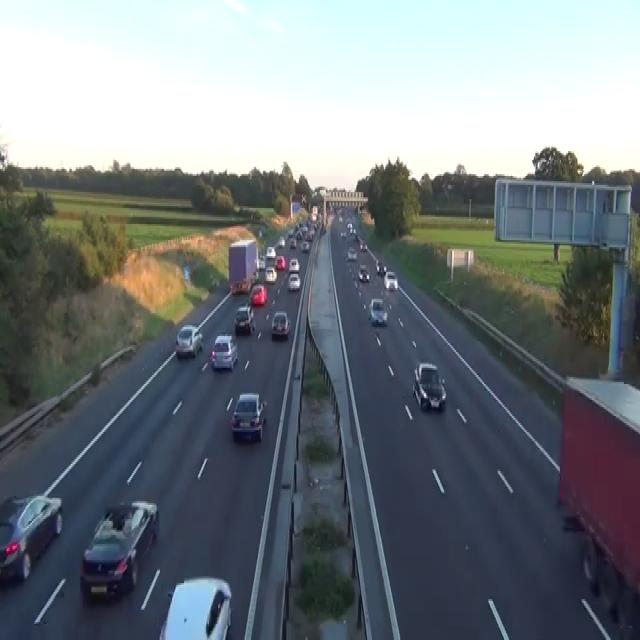Car: (79, 500, 159, 599), (580, 535, 639, 638), (0, 492, 63, 582), (158, 576, 232, 638), (230, 391, 267, 443), (412, 361, 446, 411), (210, 332, 237, 370), (175, 323, 203, 358), (234, 304, 255, 334), (368, 297, 387, 325), (271, 311, 290, 338), (249, 282, 267, 306), (230, 278, 250, 294), (384, 270, 398, 290), (287, 272, 300, 292), (358, 263, 370, 283), (264, 265, 277, 283), (375, 260, 386, 276), (275, 254, 285, 270), (288, 258, 299, 272), (266, 246, 276, 260), (347, 246, 356, 260), (378, 263, 387, 276), (257, 254, 265, 268), (183, 265, 190, 281), (265, 258, 275, 268), (301, 240, 309, 252), (346, 220, 353, 233), (305, 229, 313, 240), (374, 260, 381, 272), (289, 238, 296, 249), (251, 270, 258, 281), (279, 235, 285, 247), (359, 242, 367, 250), (352, 228, 358, 238), (300, 194, 306, 204), (321, 222, 326, 233), (340, 230, 346, 238), (287, 228, 293, 236), (311, 212, 317, 220), (338, 214, 342, 222), (258, 228, 262, 236)
Truck: (556, 373, 639, 619), (228, 236, 258, 294), (311, 204, 318, 220)
